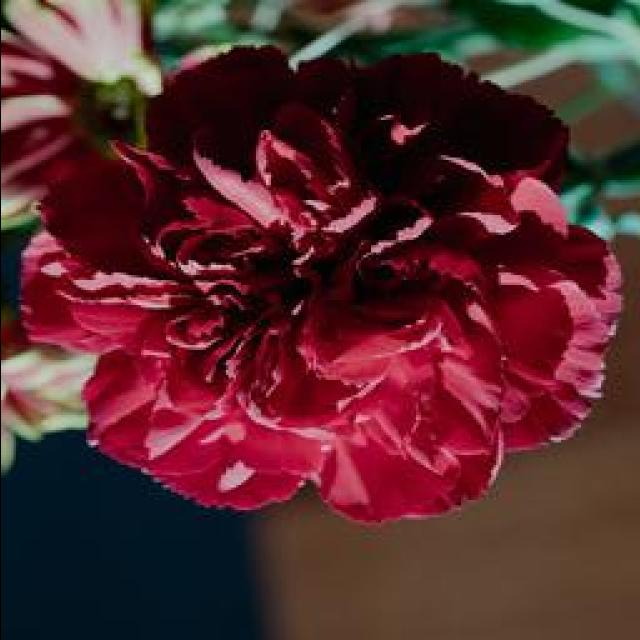carnation: (20, 35, 640, 537)
